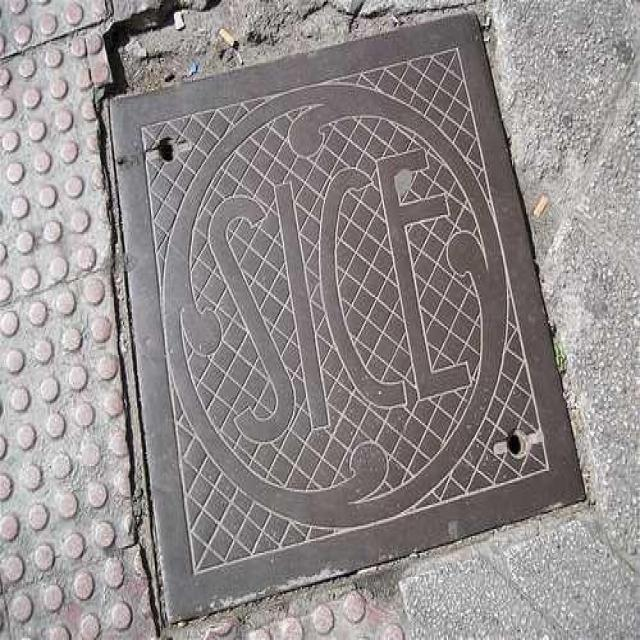manhole: (102, 12, 589, 626)
